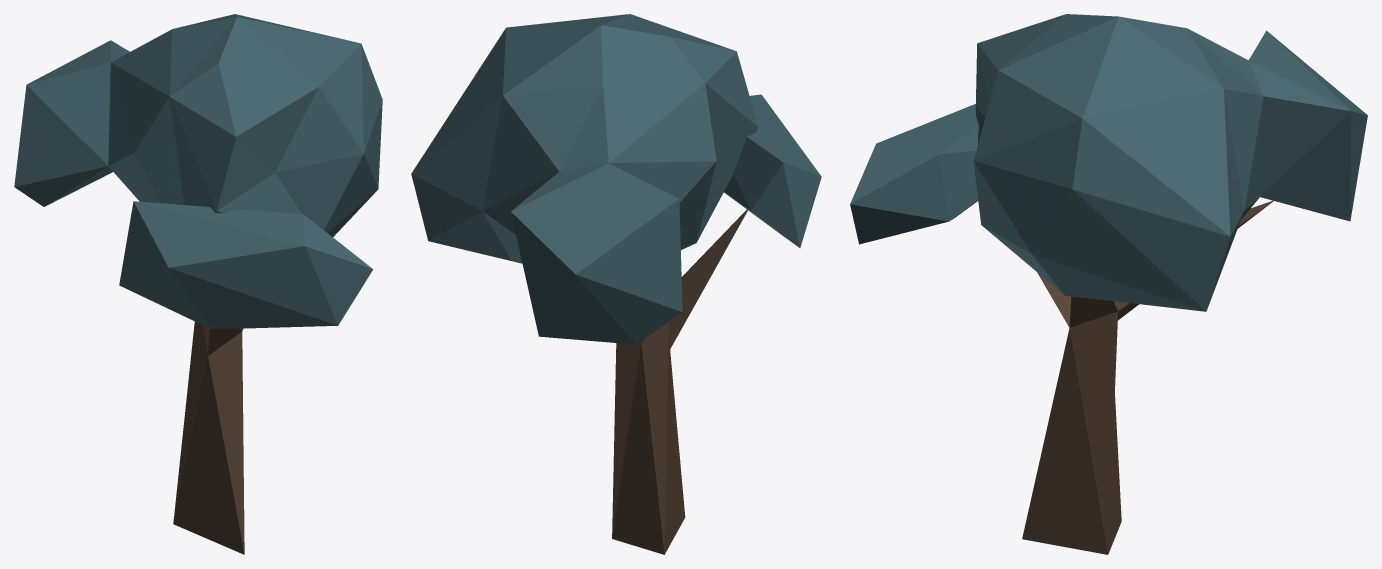
Rendered from tree02.fbx.
The picture shows the model from 3 angles, left to right: view 1: azimuth 30°, elevation 25°; view 2: azimuth 150°, elevation 25°; view 3: azimuth 270°, elevation 25°; orthographic projection. The views are drawn at different scales.
Visible parts, largest first — view 1: tree2_; view 2: tree2_; view 3: tree2_.
Part boxes in pixels (x1,y1,x2,y2): tree2_: (14,14,382,554); tree2_: (411,14,821,554); tree2_: (850,14,1367,554).
Bounding box in the file's own units: 114 × 189 × 164.
